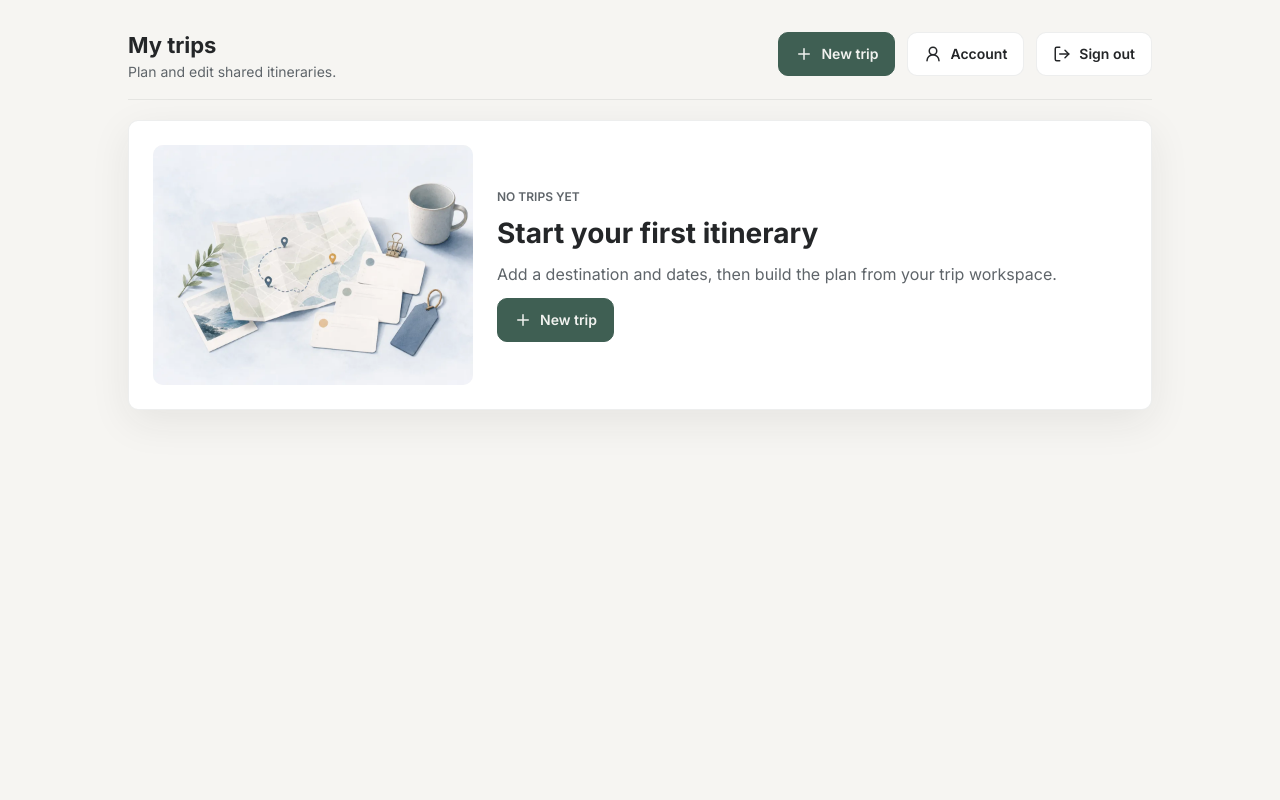
Test: <TripsPage> › opens account settings from the trips page and saves profile changes
Click the button "Account" at (966, 54), box [907,32,1024,76]
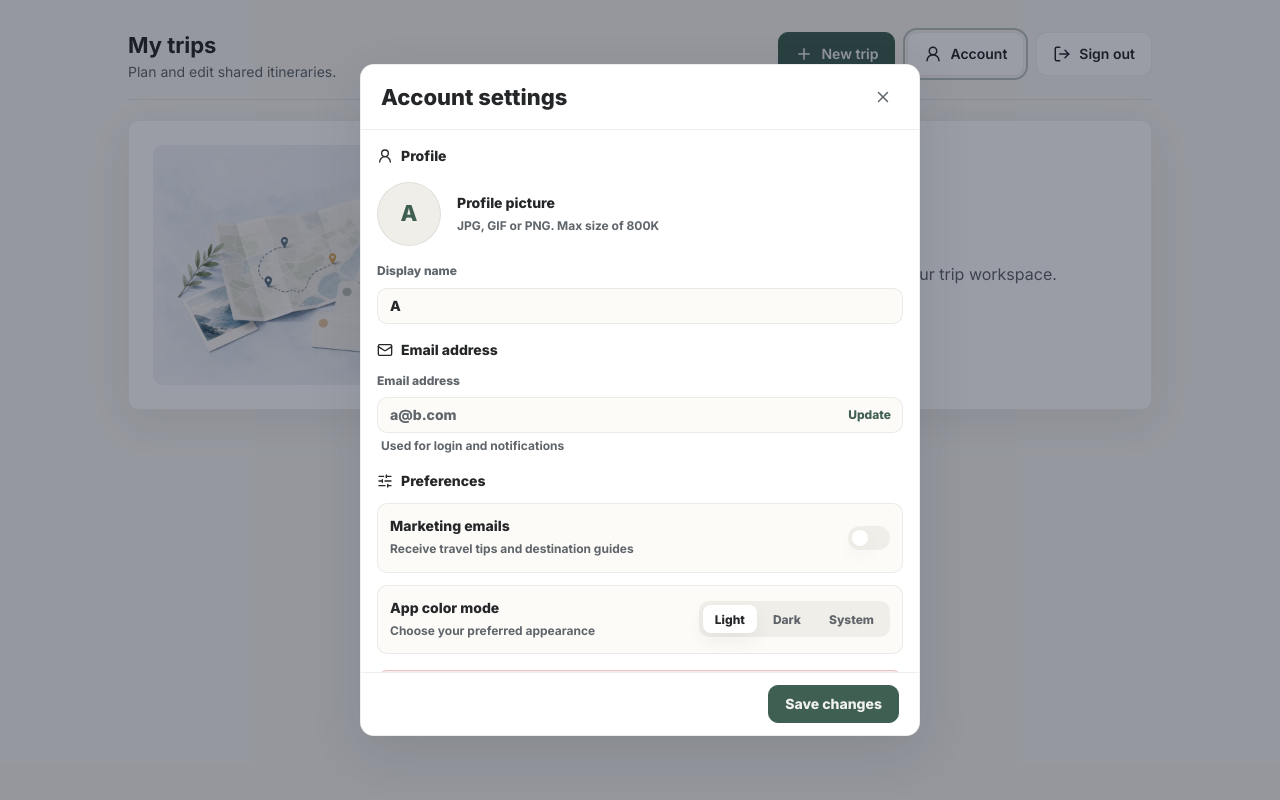
expect the dialog "Account settings" is shown: met, box [360,64,920,736]
Replace the text in the field labelled "Display name" with "Alice Chen" at (640, 306), box [377,288,903,324]
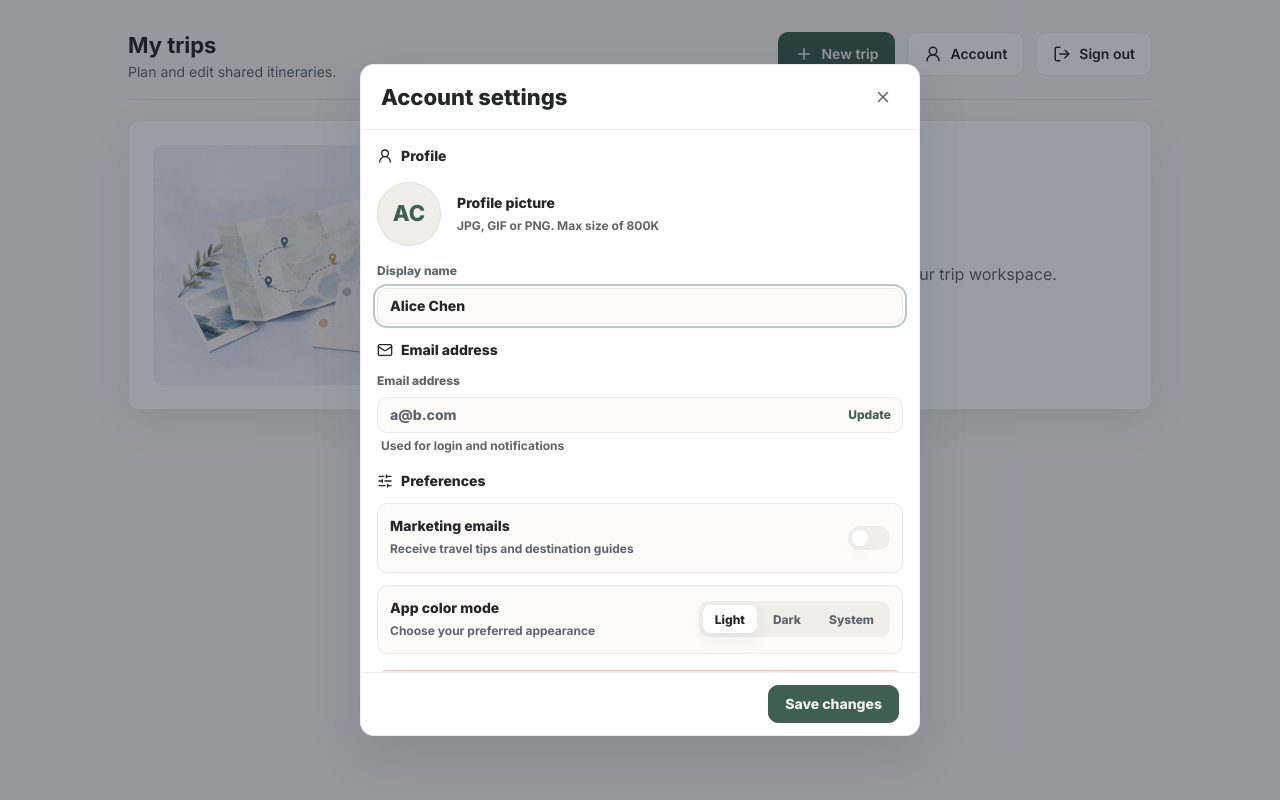
Click the button "Save changes" at (834, 704), box [768,685,899,723]
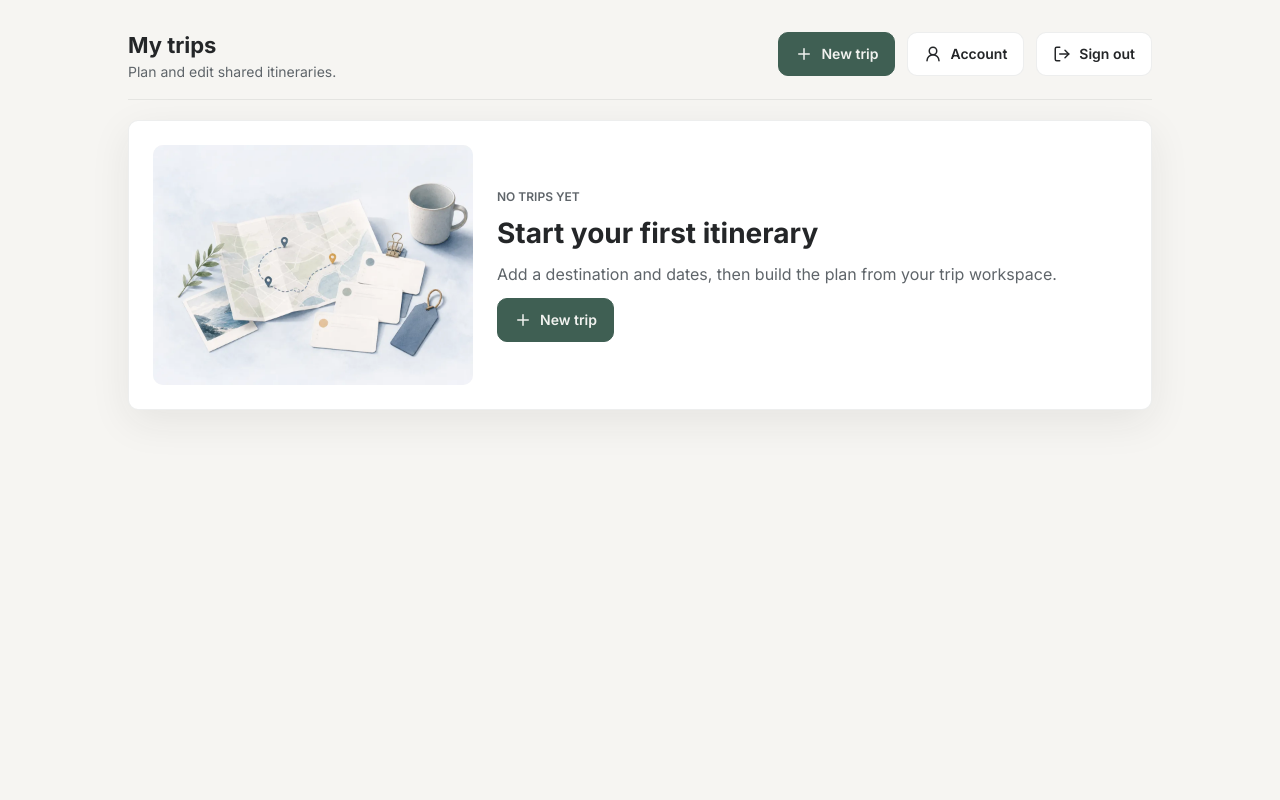
expect the heading "Account settings" is gone: met
